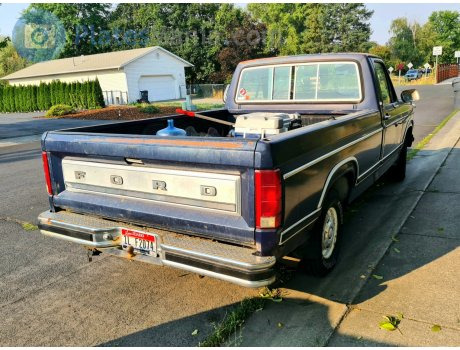license plate: (119, 230, 156, 248)
